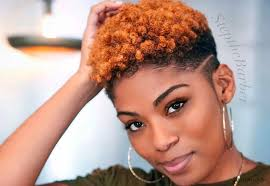black_female: (88, 8, 247, 186)
